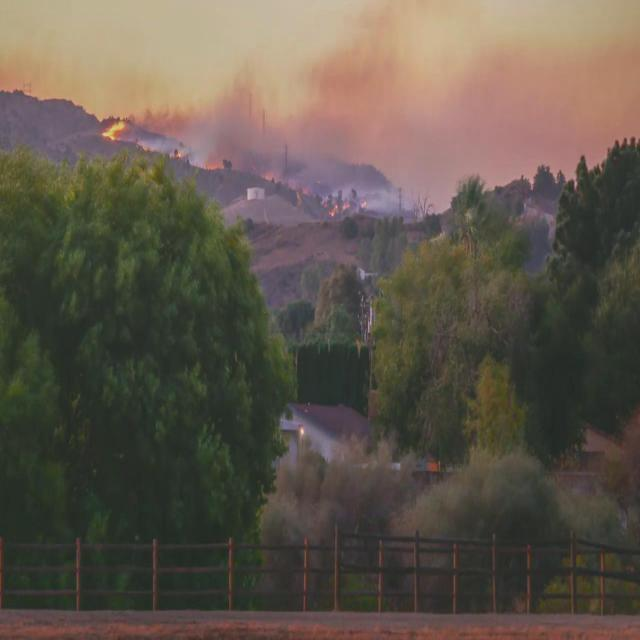Fire: (99, 119, 125, 144), (328, 204, 338, 218), (169, 149, 182, 159), (341, 201, 351, 211), (361, 197, 367, 208)
